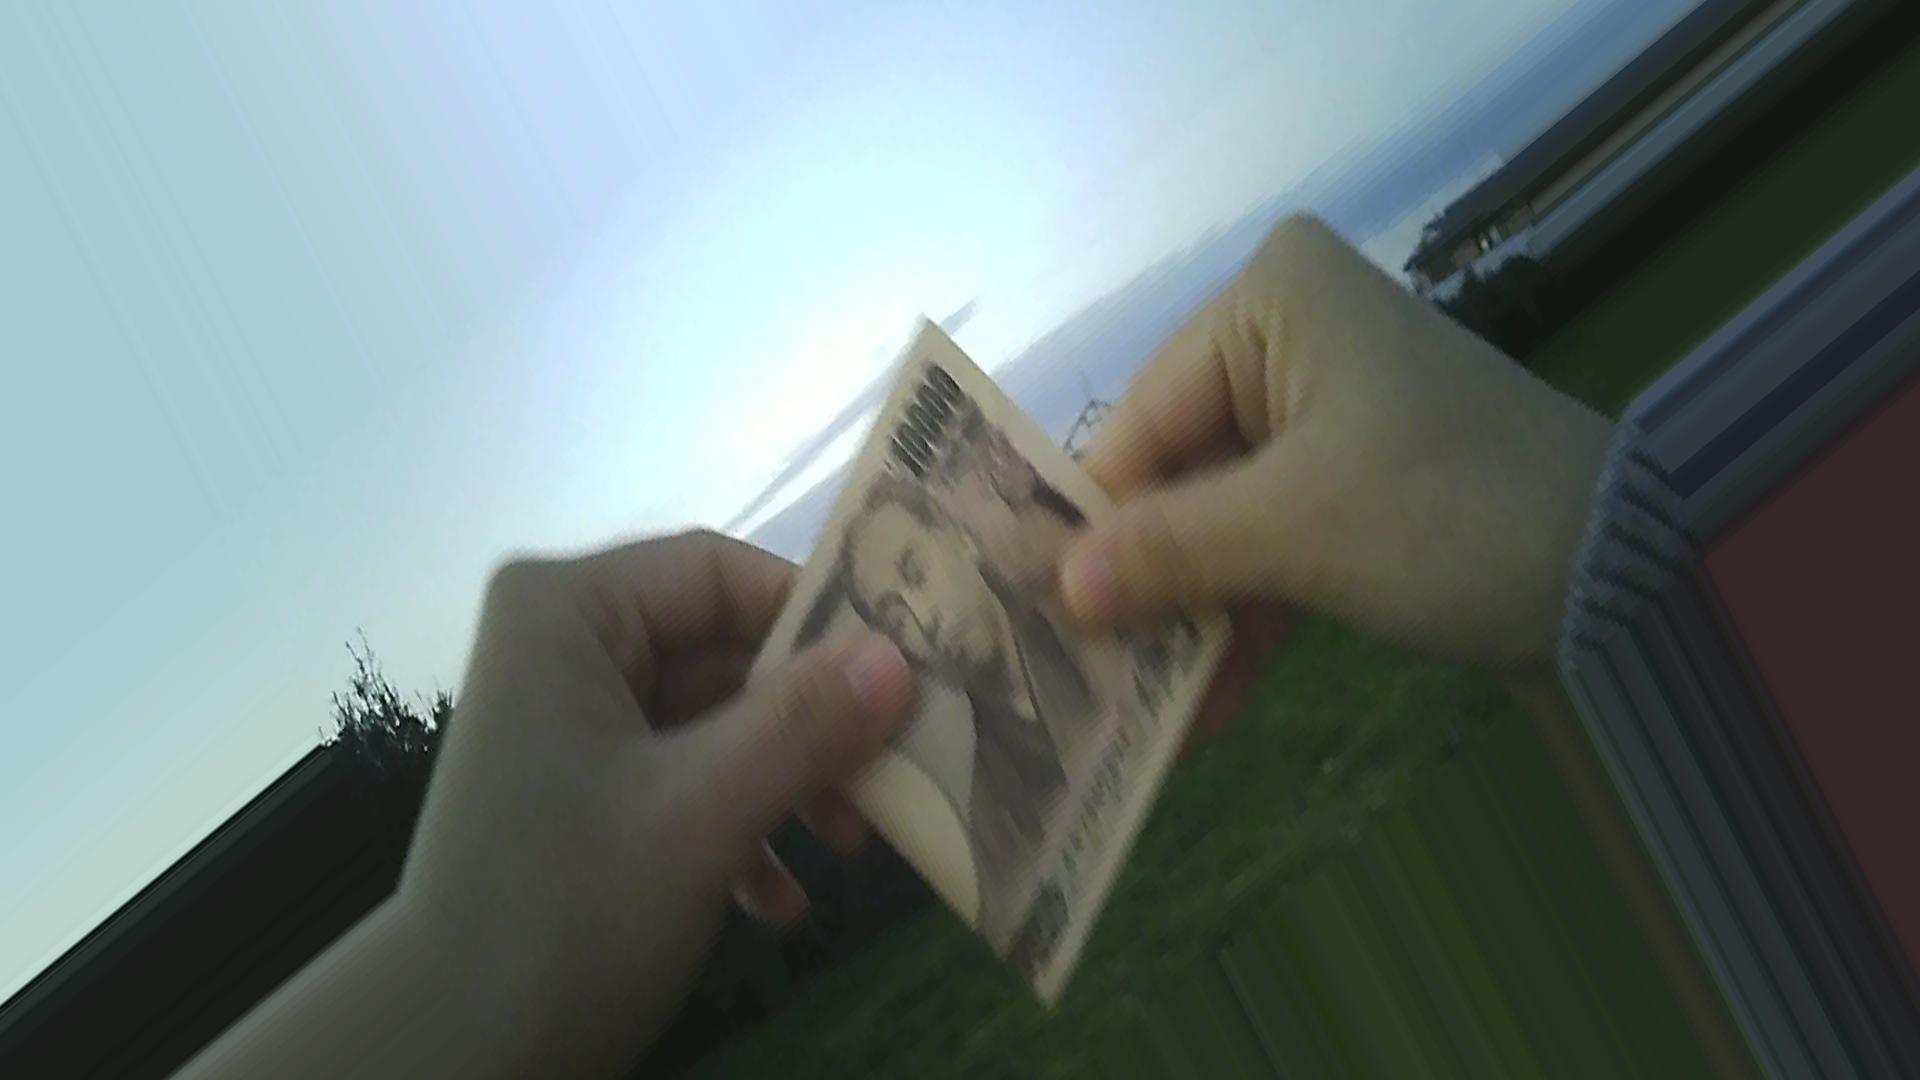10,000 Yen: (752, 307, 1228, 1010)
